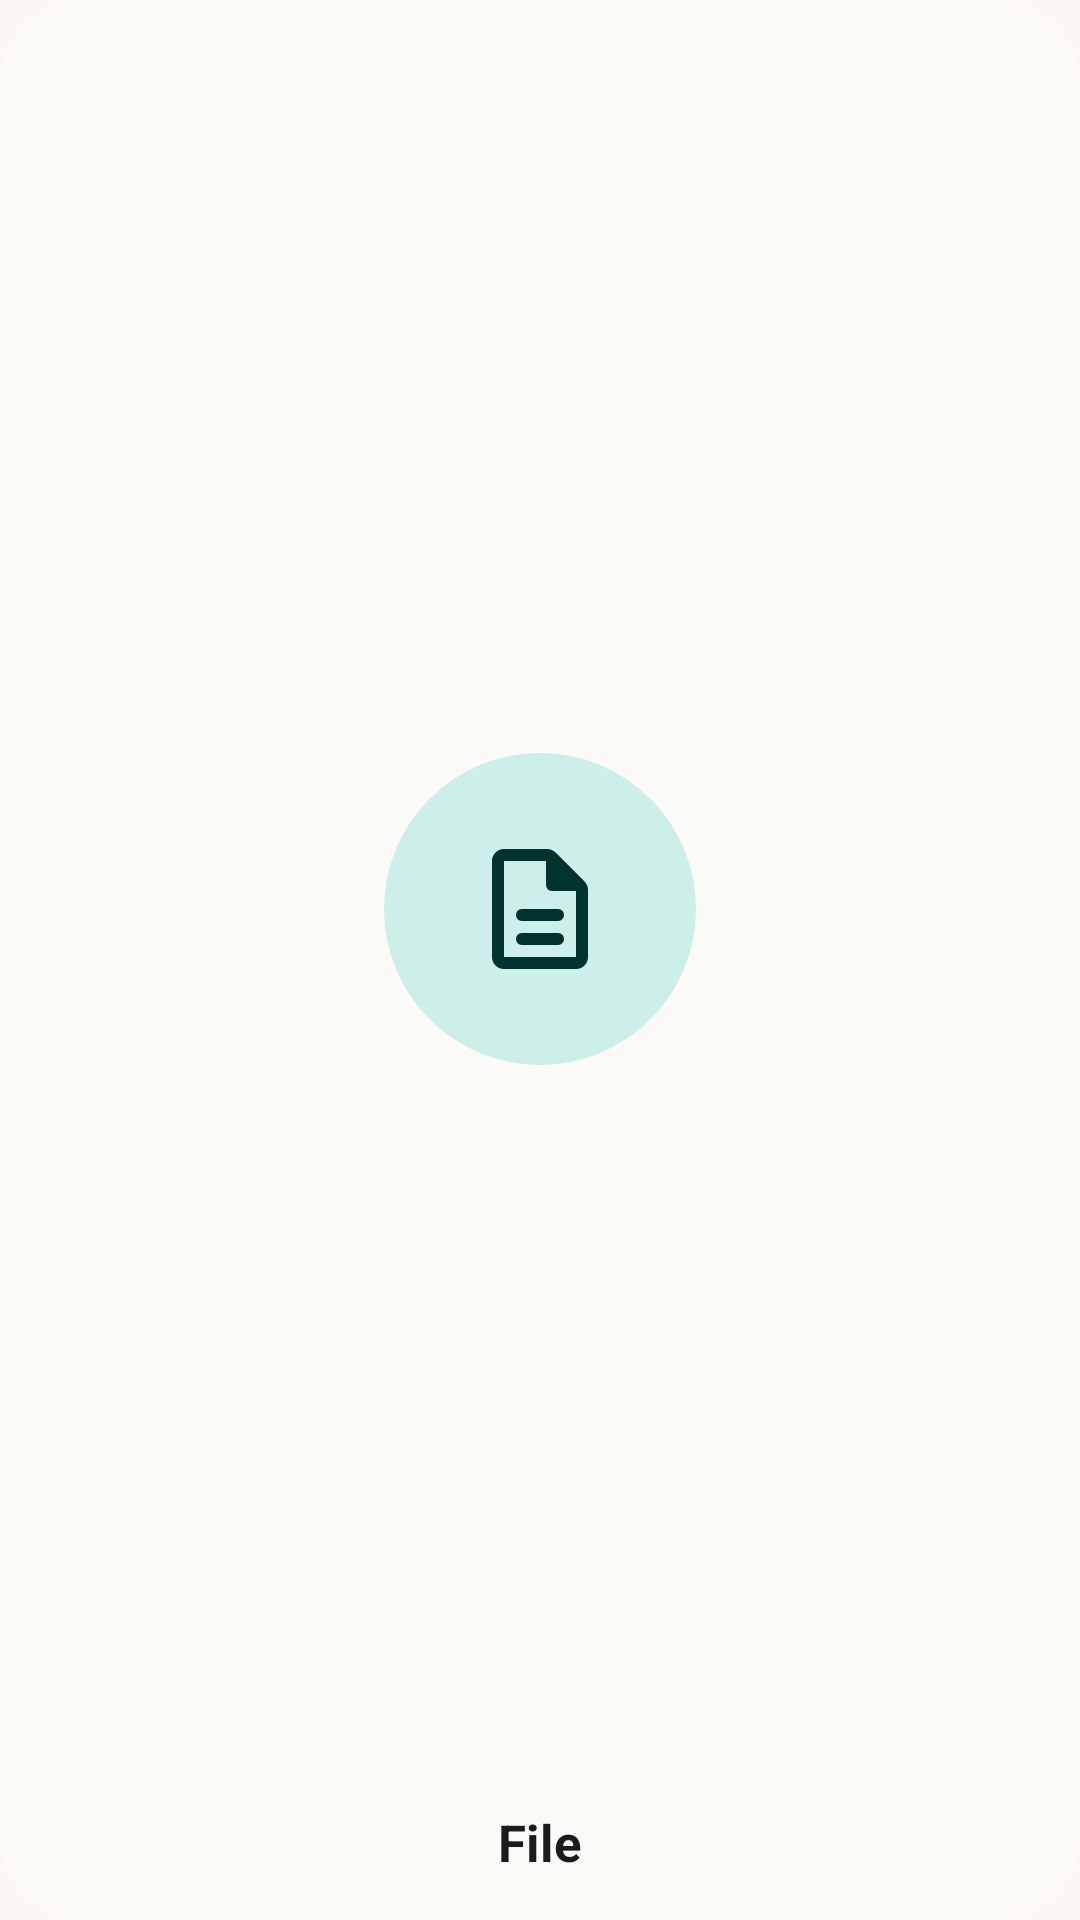

Where to tap for icons on this 1080x1920 app screen, as point (x, y):
file glyph: point (540, 909)
